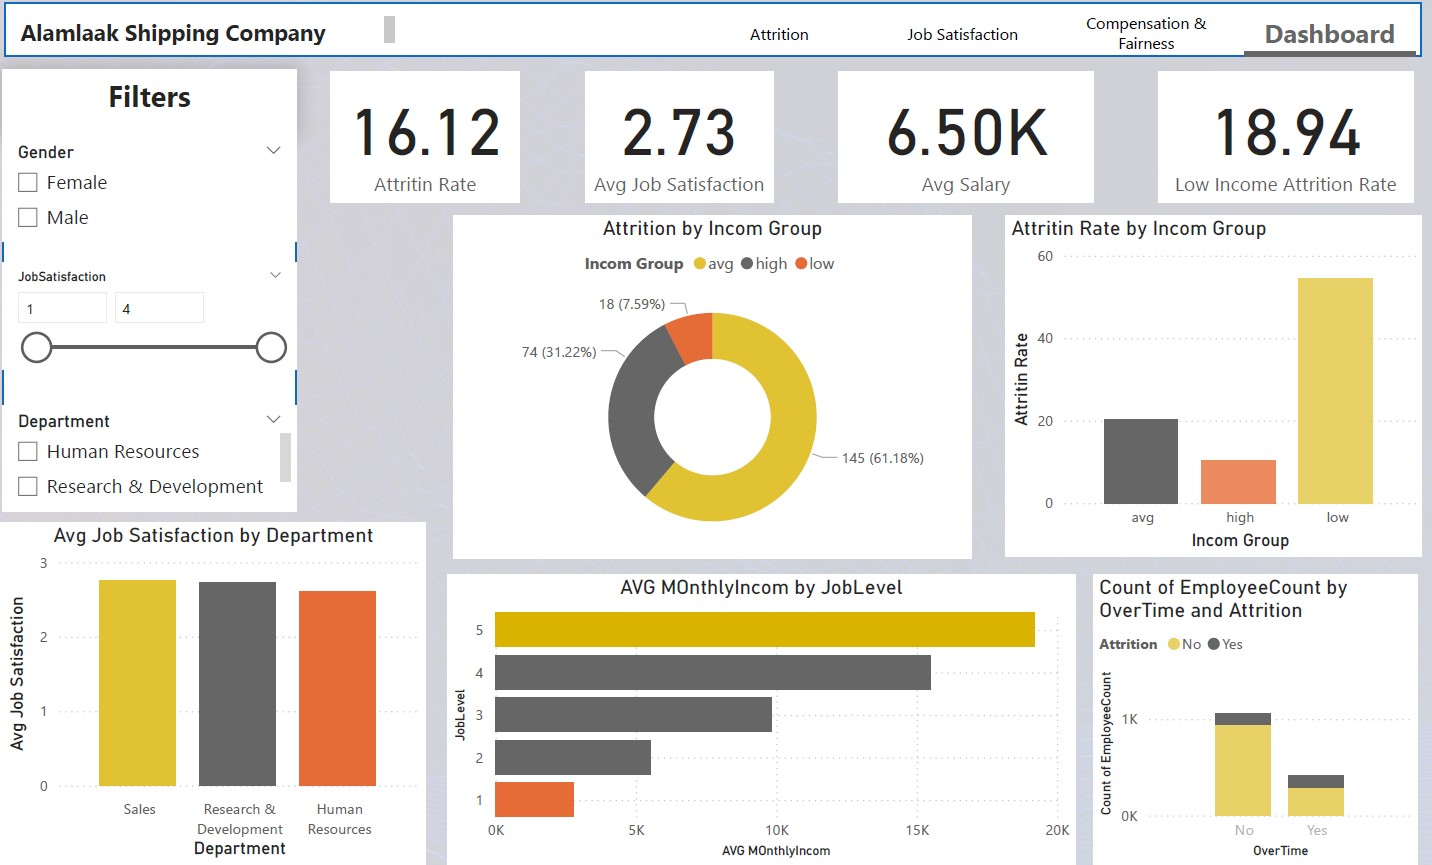

The page's visual inventory and layout, read from the dashboard file:
{"tool":"powerbi","page":{"name":"Dashboard","canvas":[1280,720],"ordinal":3},"visuals":[{"type":"shape","box":[55.7,5.9,1174.7,45.5],"z":0},{"type":"textbox","box":[63.9,12.8,319.7,33.6],"z":1000},{"type":"shape","box":[53.5,61.7,244.3,366.4],"z":9000},{"type":"textbox","box":[53.5,61.7,244.3,54.9],"z":10000},{"type":"slicer","fields":{"Values":["Employees.Gender"]},"box":[53.5,116.6,244.3,87.8],"z":11000},{"type":"slicer","fields":{"Values":["Employees.Department"]},"box":[53.5,340.3,244.3,87.8],"z":12000},{"type":"slicer","fields":{"Values":["Employees.JobSatisfaction"]},"box":[53.5,222.3,244.3,87.8],"z":13000},{"type":"pageNavigator","box":[626.6,11.2,599.4,40],"z":16000},{"type":"card","fields":{"Values":["Employees.Attritin Rate"]},"box":[326.1,63.1,156.6,108.7],"z":16001},{"type":"card","fields":{"Values":["Employees.Avg Job Satisfaction"]},"box":[536.5,63.1,156.6,108.7],"z":16002},{"type":"card","fields":{"Values":["Employees.Avg Salary"]},"box":[747,63.1,211,108.7],"z":16003},{"type":"card","fields":{"Values":["Employees.Low Income Attrition Rate"]},"box":[1011.8,63.1,211,108.7],"z":16004},{"type":"clusteredColumnChart","fields":{"Y":["Employees.Attritin Rate"],"Category":["Employees.Incom Group"]},"box":[885.1,182.5,344.4,282.7],"z":16005},{"type":"columnChart","fields":{"Category":["Employees.OverTime"],"Series":["Employees.Attrition"],"Y":["CountNonNull(Employees.EmployeeCount)"]},"box":[958.3,480,268.3,240],"z":16006},{"type":"clusteredColumnChart","fields":{"Category":["Employees.Department"],"Y":["Employees.Avg Job Satisfaction"]},"box":[53.3,436.7,351.7,283.3],"z":16007},{"type":"barChart","fields":{"Y":["Employees.AVG MOnthlyIncom"],"Category":["Employees.JobLevel"]},"box":[423.3,480,520,240],"z":16008},{"type":"donutChart","title":"Attrition by Incom Group","fields":{"Category":["Employees.Incom Group"],"Y":["CountNonNull(Employees.EmployeeCount)"]},"box":[428.3,183.3,428.3,283.3],"z":16009}]}

Visuals, with their boxes on the page's 1280x720 design canvas (x1, y1, x2, y2). These are canvas units, not pixel positions in the 1432x865 screenshot, which may show the page scaled, cropped or inside an application window:
shape: [x1=56, y1=6, x2=1230, y2=51]
textbox: [x1=64, y1=13, x2=384, y2=46]
shape: [x1=54, y1=62, x2=298, y2=428]
textbox: [x1=54, y1=62, x2=298, y2=117]
slicer - Employees.Gender: [x1=54, y1=117, x2=298, y2=204]
slicer - Employees.Department: [x1=54, y1=340, x2=298, y2=428]
slicer - Employees.JobSatisfaction: [x1=54, y1=222, x2=298, y2=310]
pageNavigator: [x1=627, y1=11, x2=1226, y2=51]
card - Employees.Attritin Rate: [x1=326, y1=63, x2=483, y2=172]
card - Employees.Avg Job Satisfaction: [x1=536, y1=63, x2=693, y2=172]
card - Employees.Avg Salary: [x1=747, y1=63, x2=958, y2=172]
card - Employees.Low Income Attrition Rate: [x1=1012, y1=63, x2=1223, y2=172]
clusteredColumnChart - Employees.Attritin Rate x Employees.Incom Group: [x1=885, y1=182, x2=1230, y2=465]
columnChart - Employees.OverTime x Employees.Attrition: [x1=958, y1=480, x2=1227, y2=720]
clusteredColumnChart - Employees.Department x Employees.Avg Job Satisfaction: [x1=53, y1=437, x2=405, y2=720]
barChart - Employees.AVG MOnthlyIncom x Employees.JobLevel: [x1=423, y1=480, x2=943, y2=720]
"Attrition by Incom Group" donutChart: [x1=428, y1=183, x2=857, y2=467]
